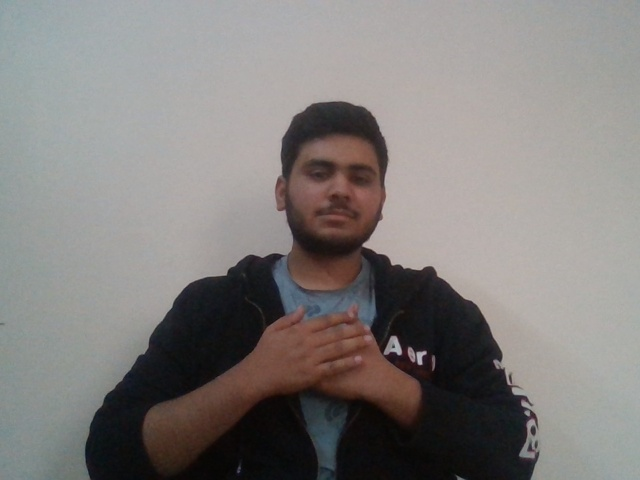Please: (240, 298, 395, 394)
